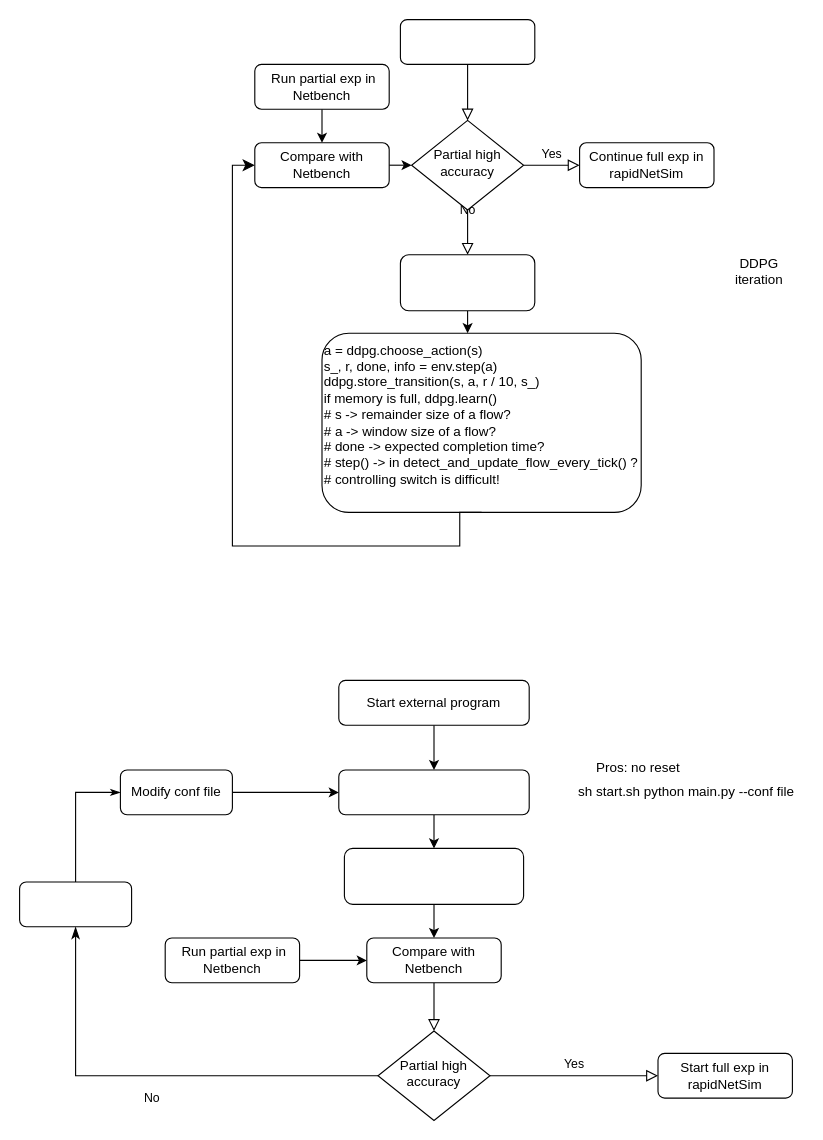
Image size: 823x1140. Some labels were removed from this diagram. The shapes that lost their labels are listed below. From the top down, each one's centre as x and y in pixels, then its label:
At (467,41): "Initial".
At (467,282): "Reset all global variables and simulation time".
At (433,792): "Start partial exp in rapidNetSim".
At (433,875): "Run with conf file controlling switch state to affect flow window size".
At (75,904): "Many step: Switch state and action??".
